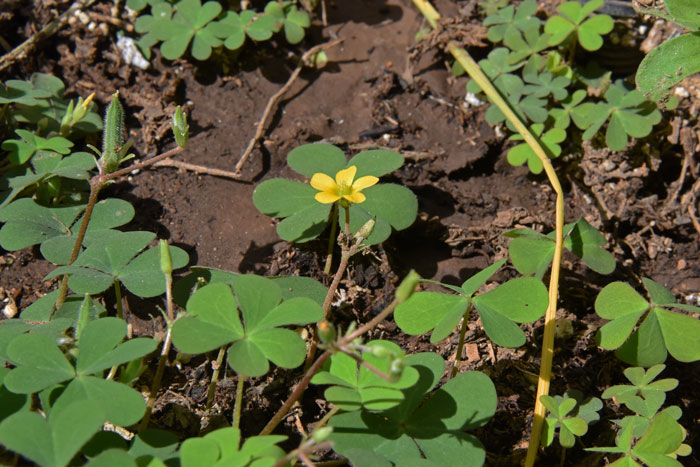oxalis: (38, 116, 695, 467)
